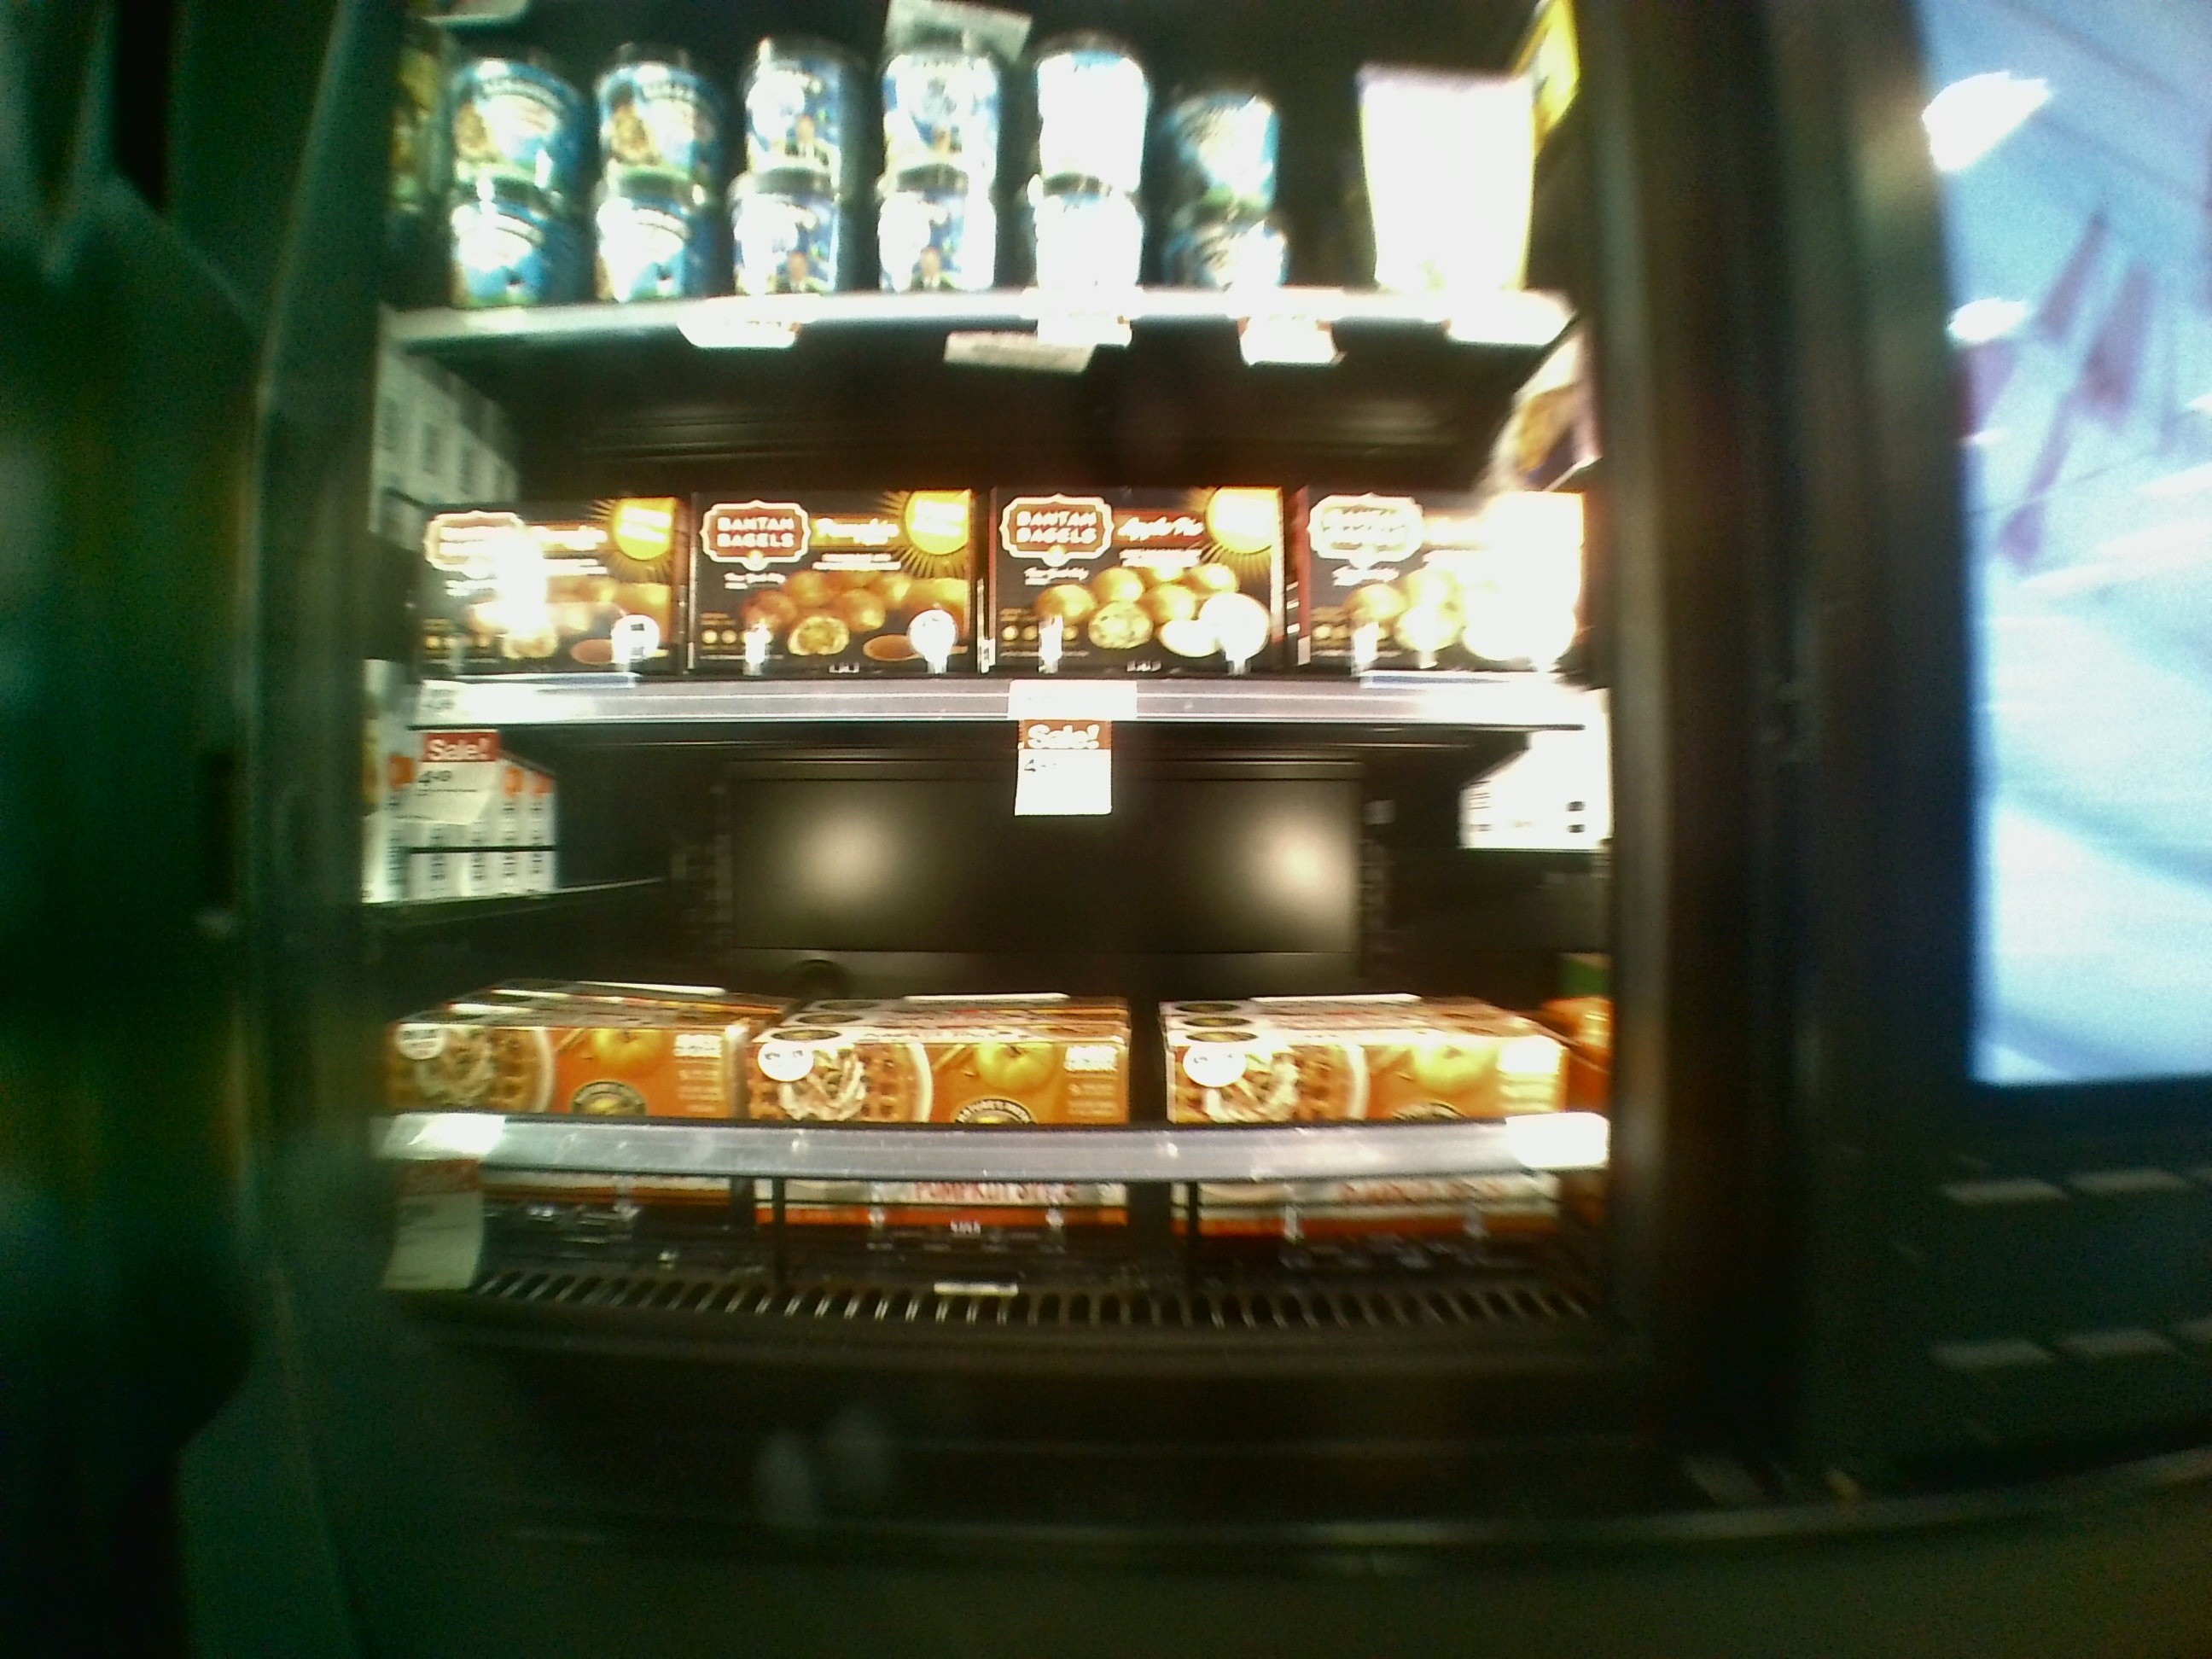shelf: (361, 688, 1597, 1351), (366, 321, 1608, 727)
